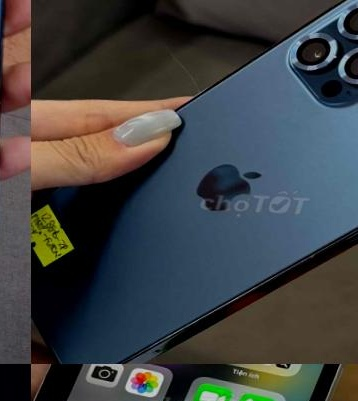scratch: (0, 371, 31, 401)
